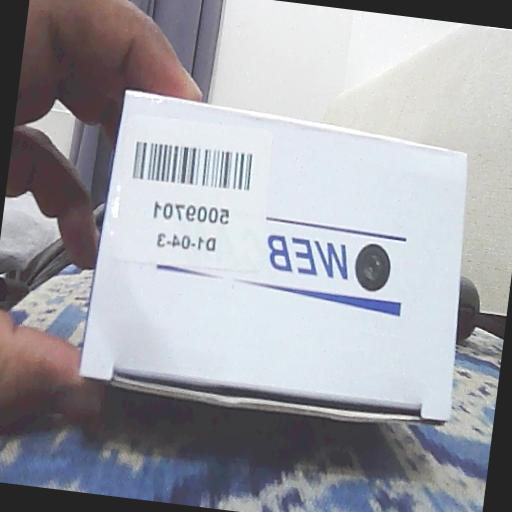webcam_box: (74, 88, 484, 430)
